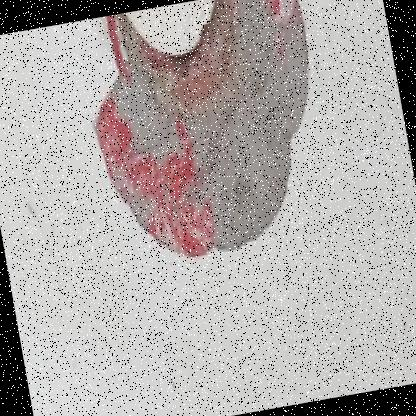Crack: (33, 0, 377, 291)
